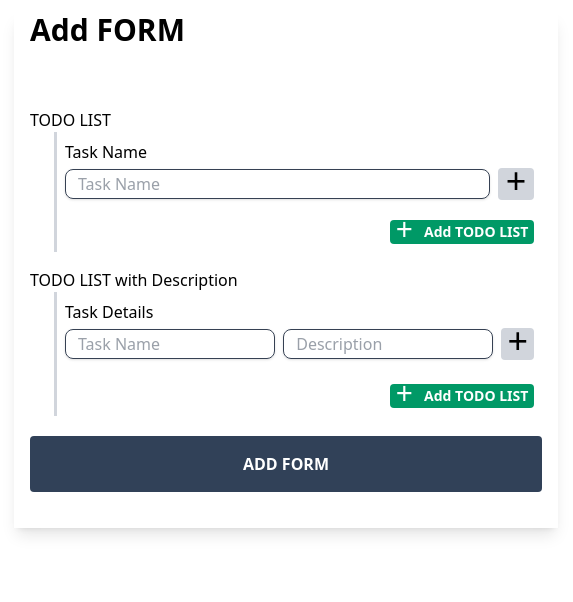
it: App Component › Detailed Todo List › should delete a detailed todo when clicking delete button
Type "Test Task" into the field with placeholder "Task Name" below "Task Details" at {"x": 170, "y": 344}, box [65, 329, 275, 359]
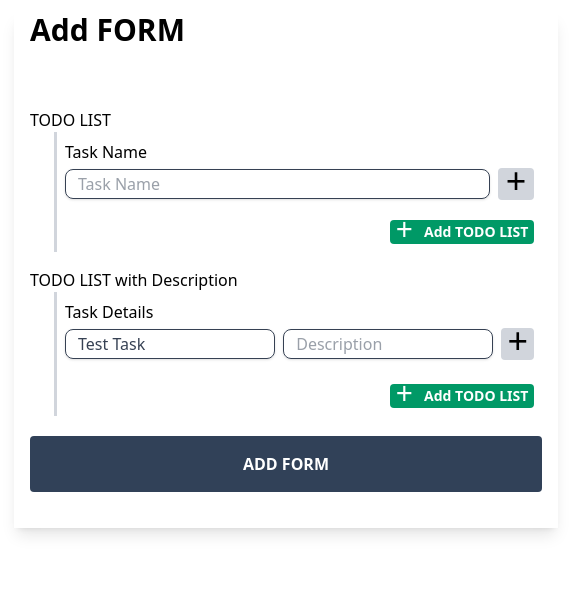
Type "Test Description" into the field with placeholder "Description" at {"x": 388, "y": 344}, box [283, 329, 493, 359]
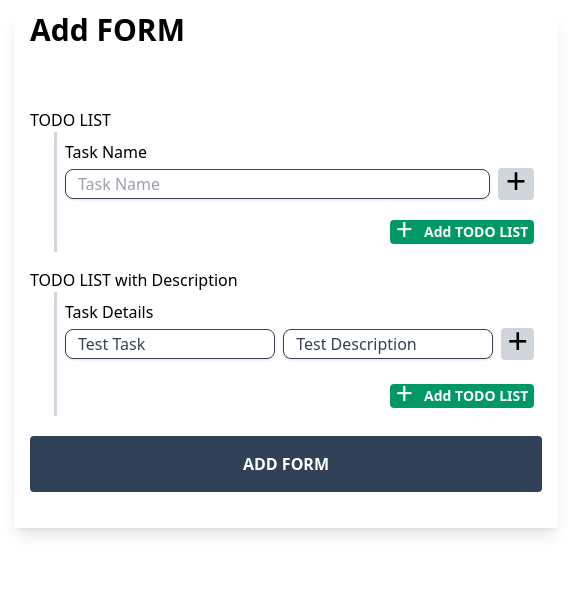
Click the button with test id "add-initial-detailed" at {"x": 518, "y": 344}, box [501, 328, 534, 360]
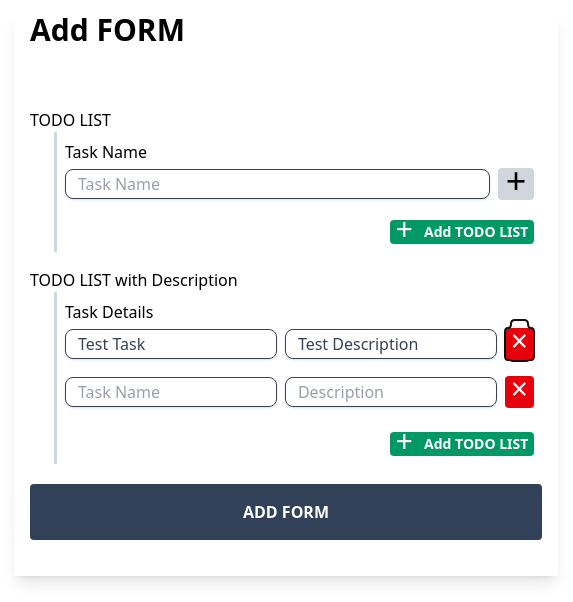
Click the button with test id "delete-detailed-0" at {"x": 519, "y": 344}, box [505, 328, 534, 360]
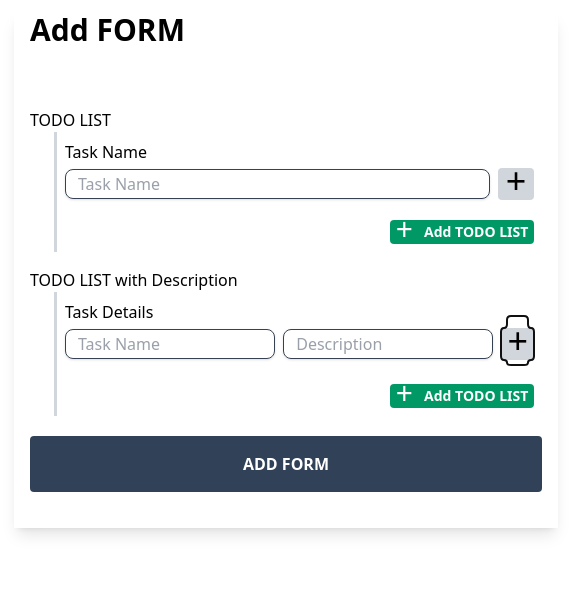
Now the number of fields with placeholder "Task Name" is 2, box [65, 169, 490, 199]; [65, 329, 275, 359]
Now the number of fields with placeholder "Description" is 1, box [283, 329, 493, 359]
